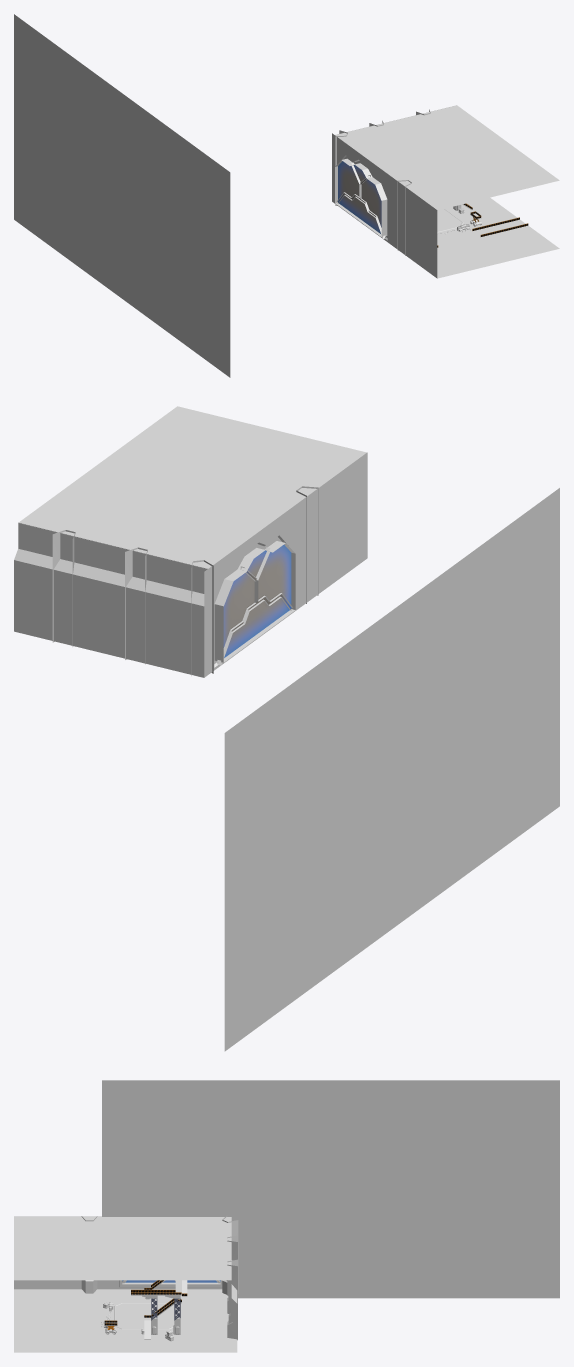
The model's file is transformer_bg.fbx.
3 views of the same model, one above another, from view 1: azimuth 30°, elevation 25°; view 2: azimuth 150°, elevation 25°; view 3: azimuth 270°, elevation 25° (orthographic). The views are drawn at different scales.
Parts seen in each view (by area): view 1: transformer_bg; view 2: transformer_bg; view 3: transformer_bg.
Part boxes in pixels (x1,y1,x2,y2): transformer_bg: (14, 14, 559, 377); transformer_bg: (14, 406, 559, 1051); transformer_bg: (14, 1080, 559, 1352).
Size of the model in its own units: 3657 by 2493 by 5664.
